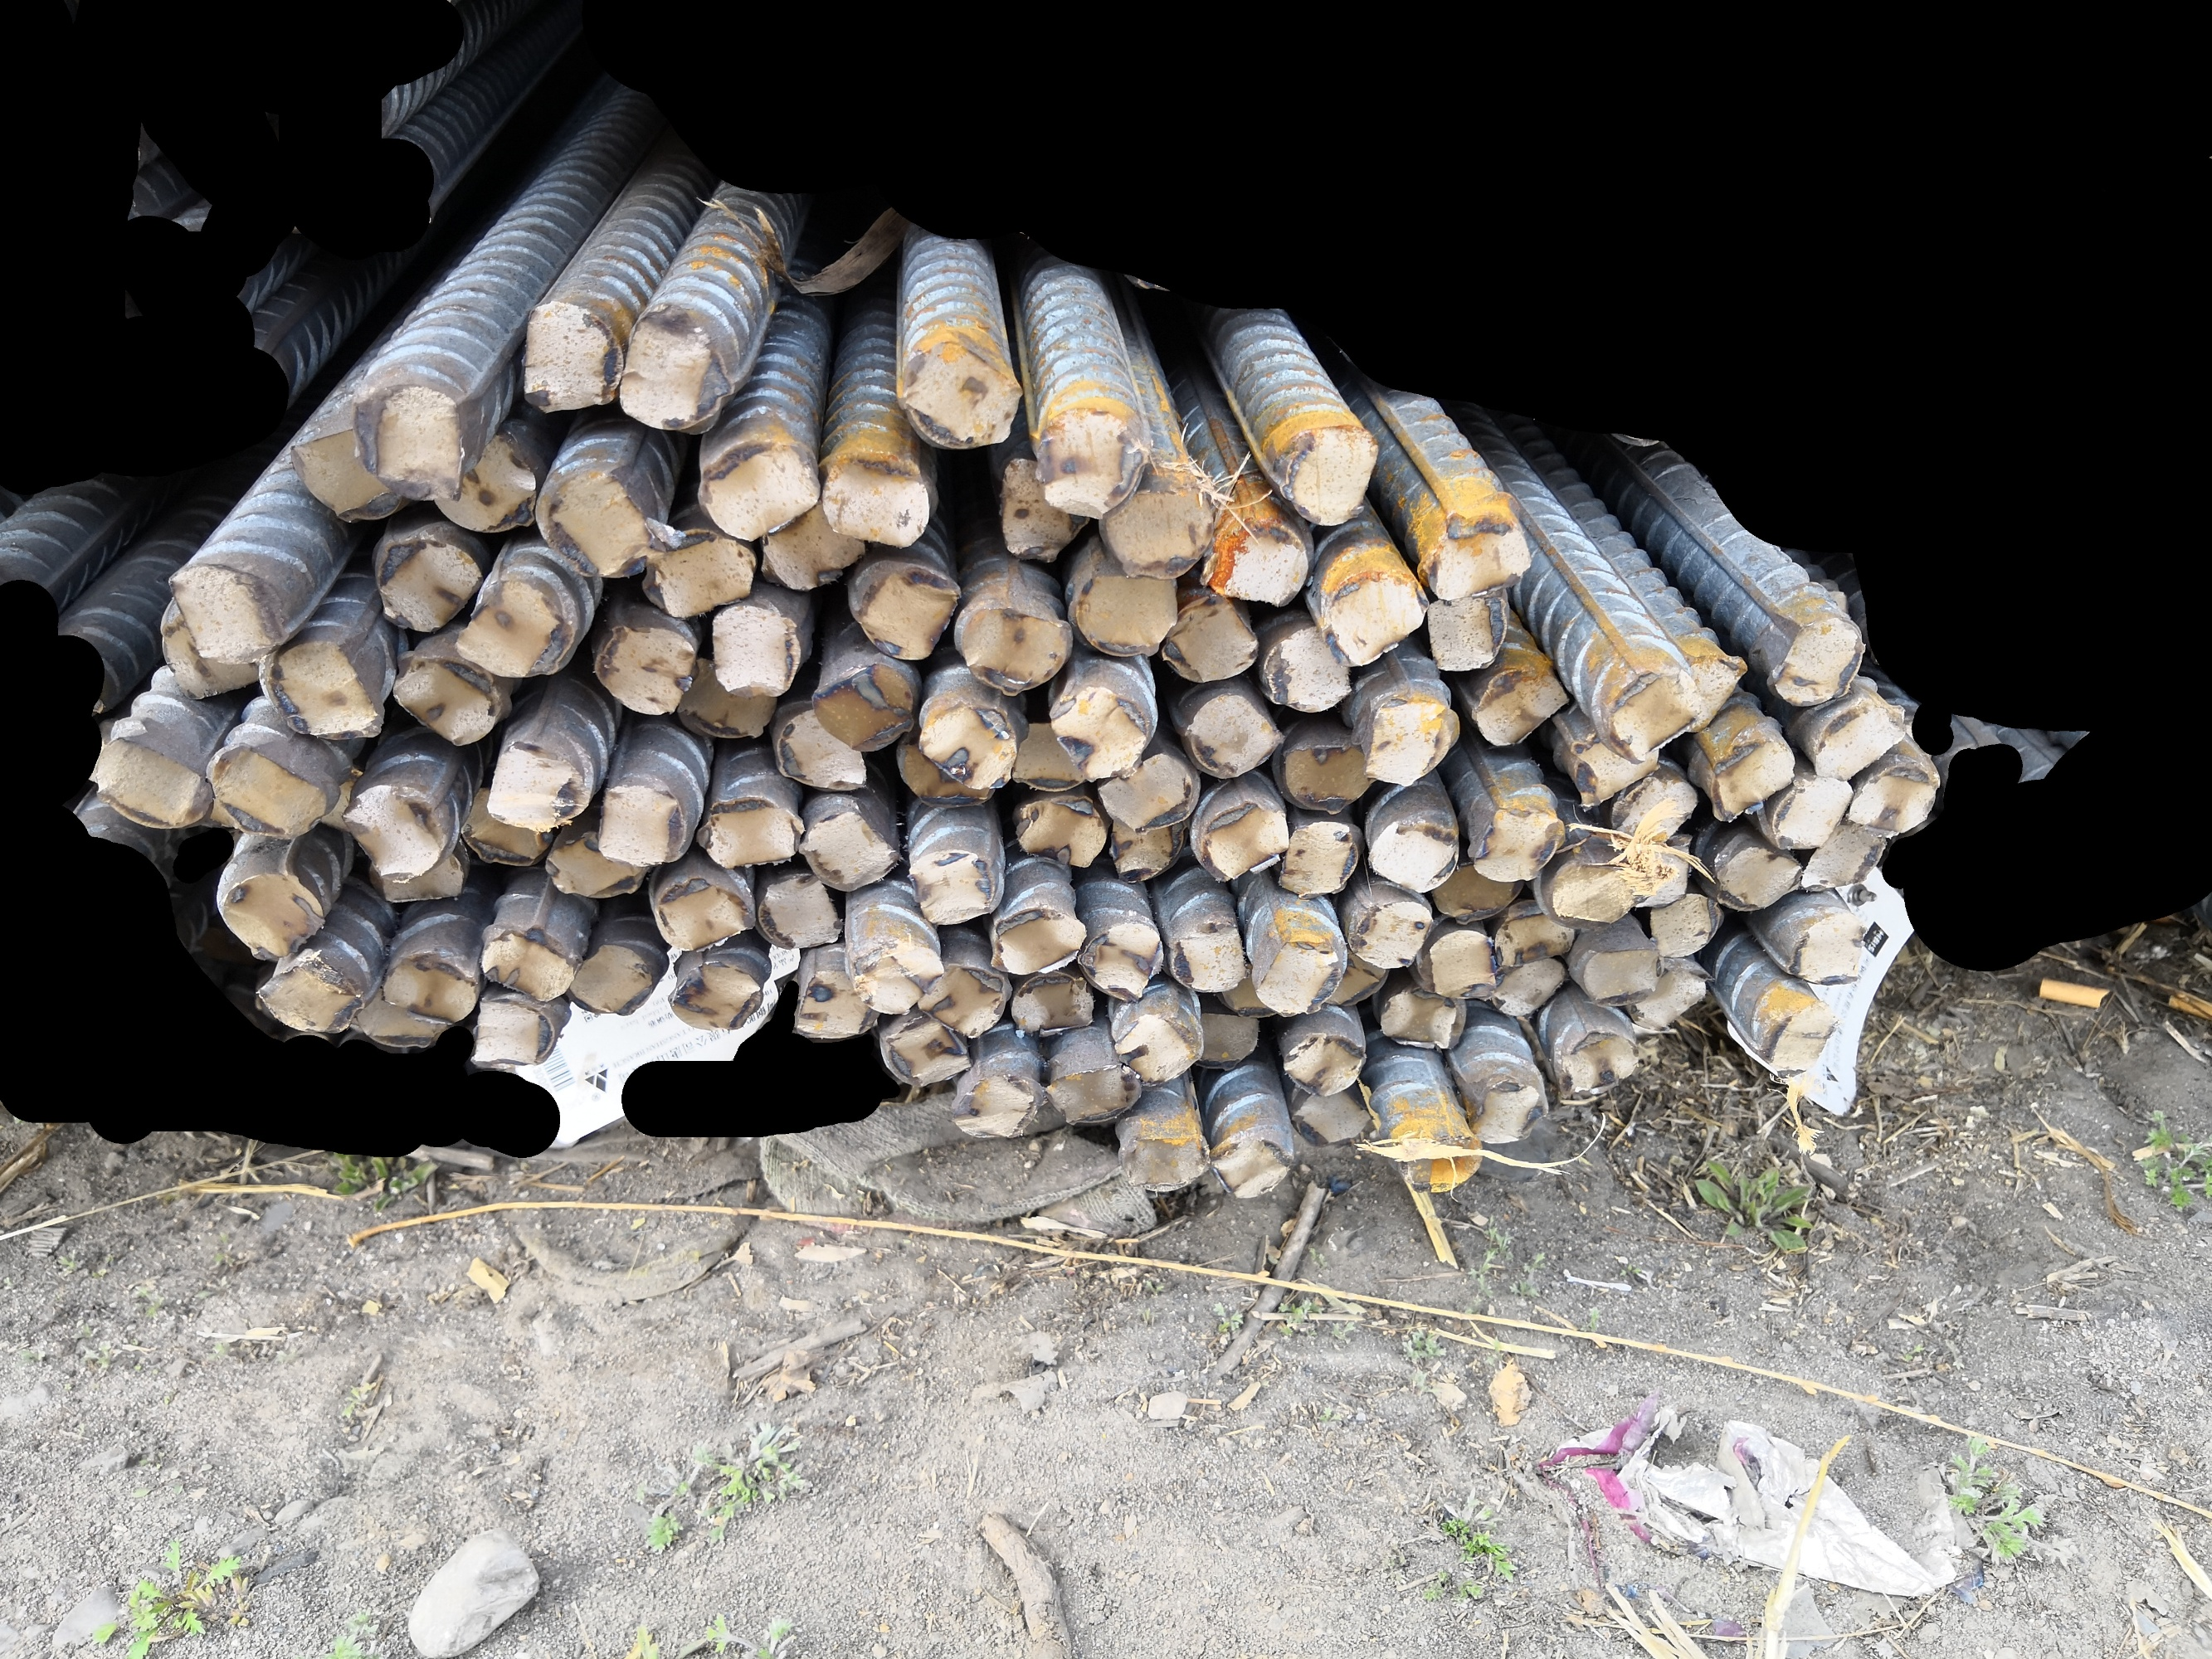rebar: (612, 298, 741, 434), (342, 382, 476, 507), (532, 462, 661, 584), (450, 563, 577, 685), (892, 336, 1023, 453), (82, 728, 216, 835), (1035, 403, 1154, 523), (254, 636, 390, 741), (699, 430, 824, 544), (518, 295, 626, 420), (990, 450, 1102, 568), (282, 425, 410, 528), (338, 775, 455, 887), (366, 530, 486, 638), (1102, 477, 1220, 586), (636, 519, 762, 620), (162, 565, 289, 664), (202, 741, 329, 840), (1271, 418, 1384, 530), (427, 429, 544, 535), (847, 558, 964, 664), (955, 594, 1072, 699), (753, 493, 872, 596), (816, 450, 936, 551), (593, 613, 704, 721), (152, 601, 267, 706), (209, 864, 329, 964), (1320, 565, 1426, 674), (390, 652, 507, 751), (1042, 683, 1152, 788), (1199, 512, 1311, 613), (1424, 505, 1537, 605), (1069, 565, 1184, 662), (1605, 662, 1710, 769), (805, 657, 919, 755), (1759, 613, 1874, 709), (485, 734, 593, 835), (919, 694, 1025, 795), (706, 592, 804, 701), (253, 950, 366, 1039), (692, 788, 807, 875), (767, 702, 875, 795), (795, 803, 906, 892), (668, 655, 781, 742), (469, 920, 584, 1006), (1178, 694, 1288, 782), (1358, 695, 1459, 791), (648, 871, 760, 957), (1161, 589, 1259, 687), (1801, 704, 1917, 784), (1257, 622, 1356, 716), (593, 777, 692, 870), (1548, 854, 1670, 929), (1464, 664, 1571, 749), (842, 936, 950, 1019), (539, 823, 654, 901), (1192, 800, 1295, 887), (901, 843, 1006, 929), (1093, 748, 1198, 833), (1703, 732, 1801, 823), (1841, 756, 1944, 842), (664, 953, 769, 1037), (1271, 735, 1377, 817), (1253, 929, 1349, 1019), (1468, 800, 1567, 887), (1075, 913, 1166, 1007), (1008, 791, 1110, 873), (915, 951, 1009, 1040), (350, 979, 462, 1054), (455, 779, 551, 866), (790, 957, 885, 1044), (380, 946, 483, 1026), (1361, 812, 1462, 892), (892, 741, 1006, 812), (565, 934, 659, 1019), (462, 986, 558, 1068), (1790, 819, 1895, 894), (1768, 767, 1858, 852), (1553, 1023, 1645, 1107), (985, 906, 1089, 979), (1274, 814, 1361, 901), (1102, 807, 1192, 890), (1107, 1006, 1199, 1087), (1607, 770, 1700, 852), (1788, 906, 1874, 993), (947, 1070, 1053, 1140), (1571, 734, 1665, 812), (1110, 1124, 1213, 1195), (877, 1014, 974, 1089), (1346, 894, 1438, 972), (1004, 711, 1089, 795), (1163, 918, 1253, 997), (1429, 856, 1529, 927), (751, 873, 845, 948), (1039, 1060, 1145, 1126), (1004, 967, 1100, 1040), (1576, 938, 1666, 1014), (1762, 995, 1839, 1086), (1677, 645, 1752, 737), (1421, 591, 1503, 674), (1708, 842, 1802, 913), (1424, 922, 1503, 1007), (1379, 979, 1468, 1054), (1276, 1028, 1367, 1101), (1388, 1131, 1487, 1197), (1468, 1072, 1553, 1148), (364, 850, 471, 908), (1210, 1131, 1293, 1202), (1628, 964, 1712, 1035), (1483, 951, 1571, 1019), (1621, 838, 1698, 915), (1487, 906, 1583, 967), (1288, 1080, 1377, 1145), (1642, 887, 1715, 962), (1189, 1004, 1262, 1075), (307, 760, 368, 838), (1321, 946, 1391, 1014), (181, 781, 258, 838), (1220, 960, 1279, 1025)
